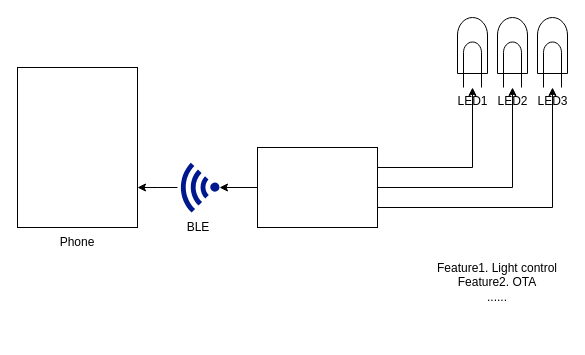
The diagram is 585 pixels wide and 355 high, and some of its shapes have lost their labels. Here are the shapes that lost their labels. From the top down, the centre of each, then its label:
the point at 77,147: LightControl APP
the point at 317,187: nRF52833DK Kit
